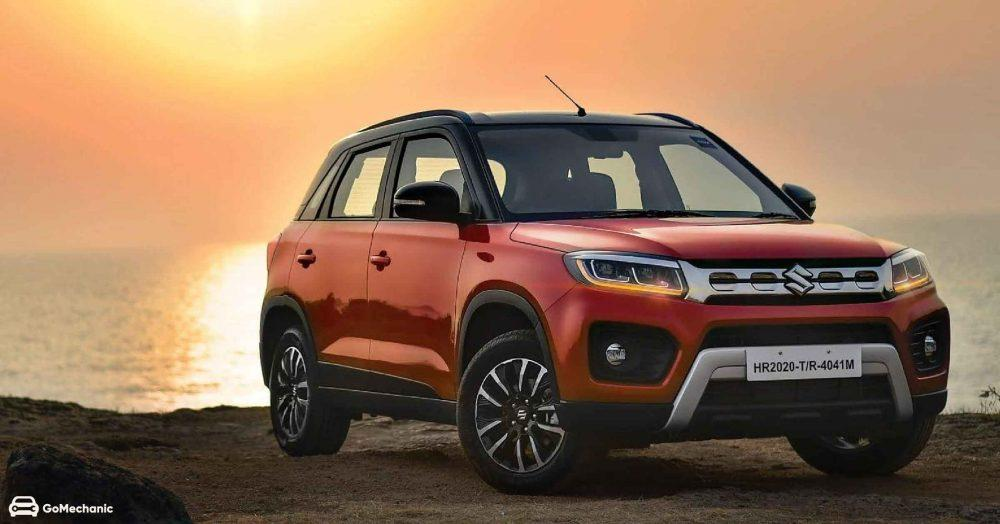car: (260, 106, 949, 489)
